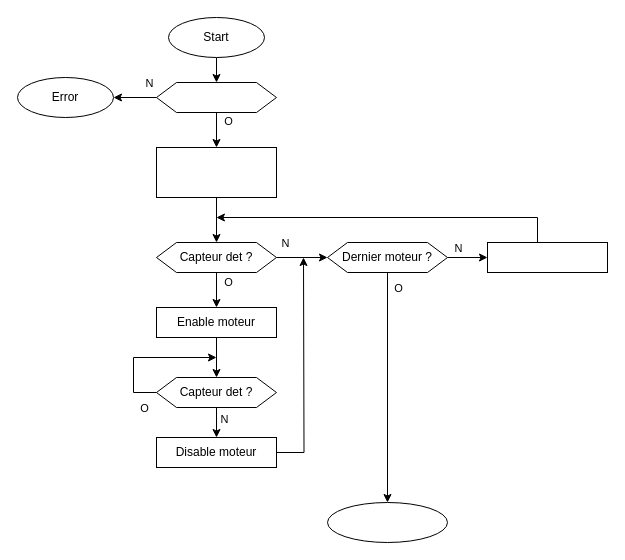
Image size: 625x560. Some labels were removed from this diagram. Each missing label, with the box of its shape:
End: (326, 502, 448, 542)
Initialisable ?: (156, 82, 276, 112)
Prochain moteur: (486, 242, 608, 272)
Vitesse minimale Direction anti-horaire Premier moteur: (156, 146, 276, 198)
